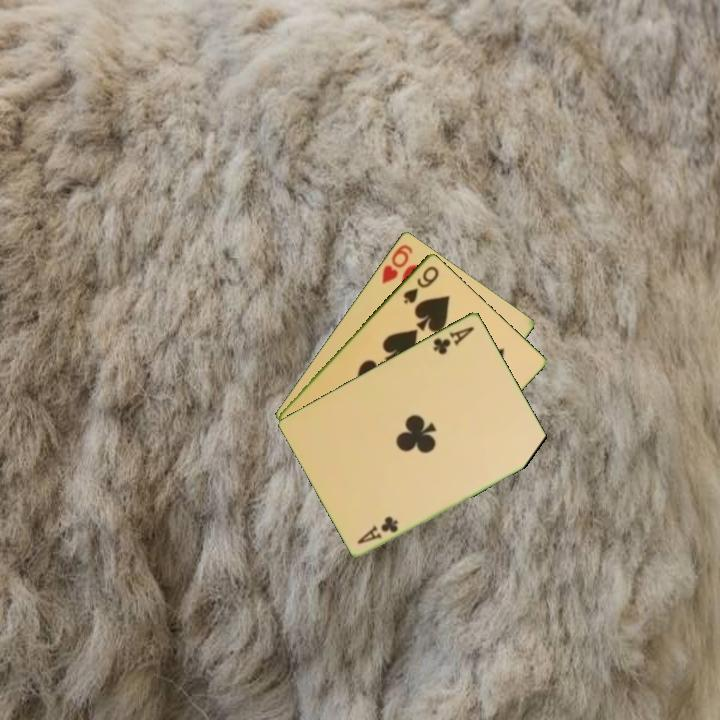6h: (378, 240, 416, 286)
9s: (399, 262, 442, 306)
Ac: (429, 322, 477, 357), (353, 512, 401, 547)
